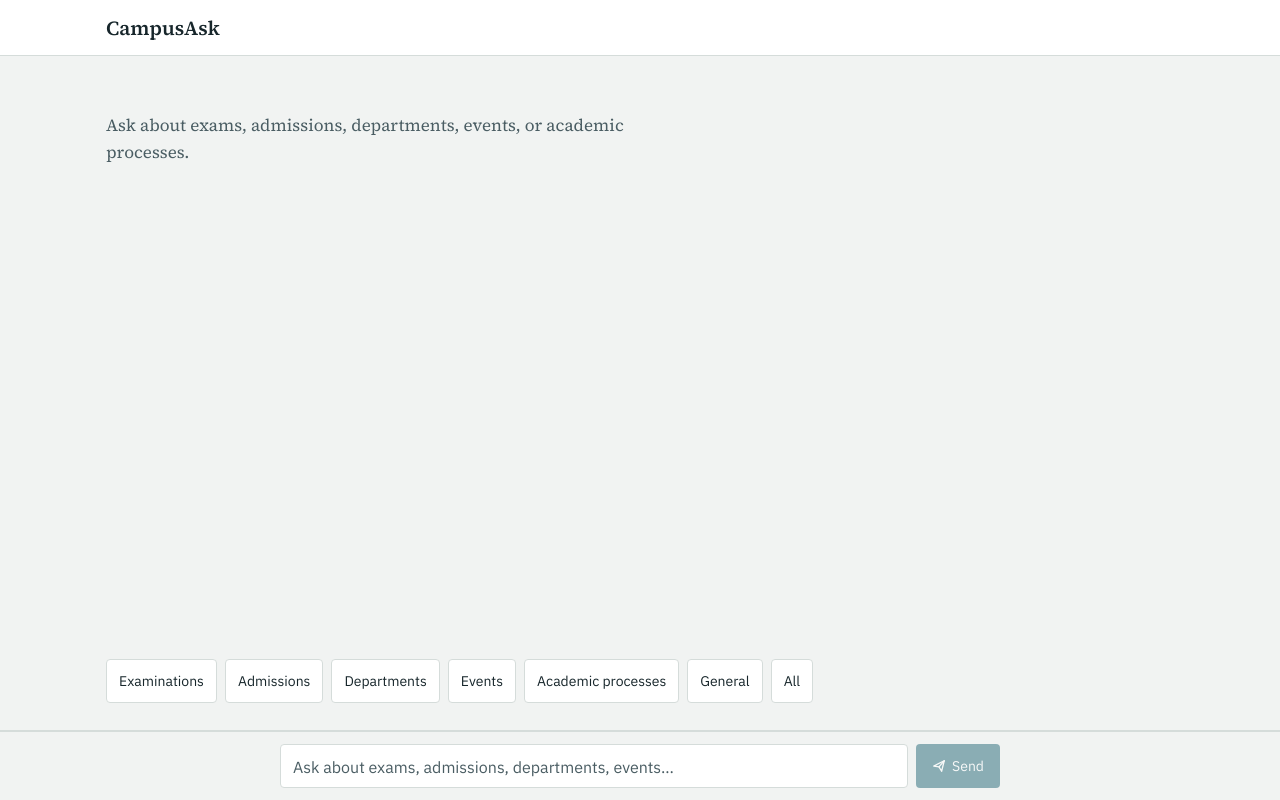
Test: Chat › opens one slip at a time
Check: the radio button labelled "Admissions" is shown, box [225,659,323,703]
Type "When are marks published?" into the text box. click: [594, 766]
box: [280,744,908,788]
Then press Enter
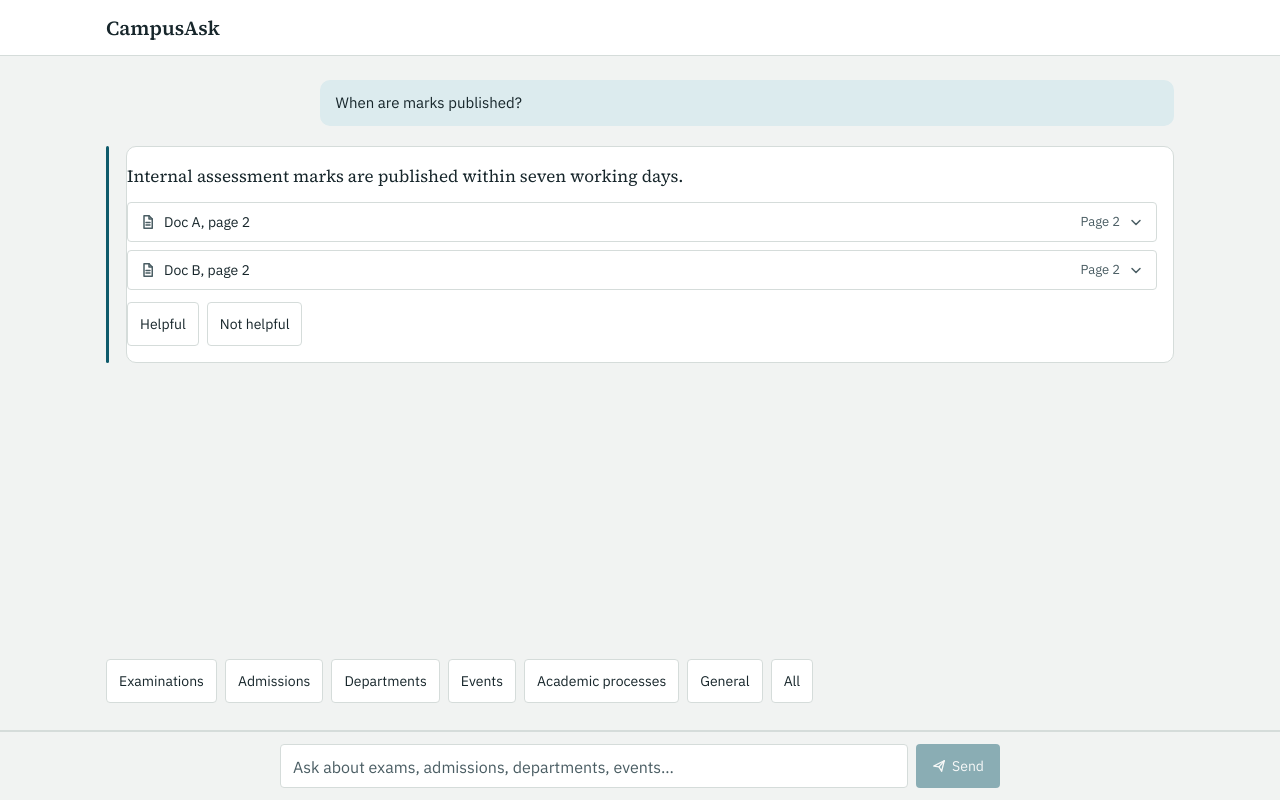
Click the button "Doc A, page 2 Page 2". click: [207, 222]
box: [127,202,1157,242]
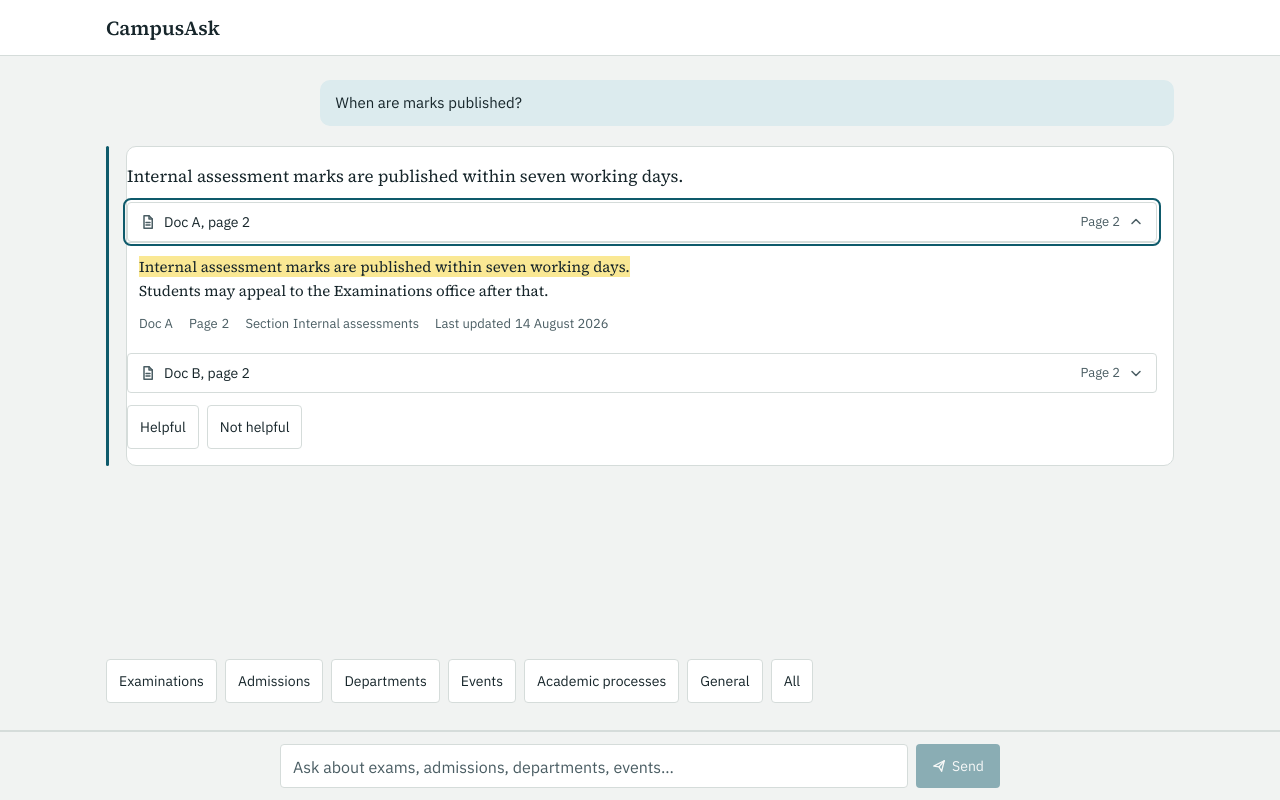
Check: the button "Doc A, page 2 Page 2" is expanded, box [127,202,1157,242]
Click the button "Doc B, page 2 Page 2". click: [207, 373]
box: [127,353,1157,393]
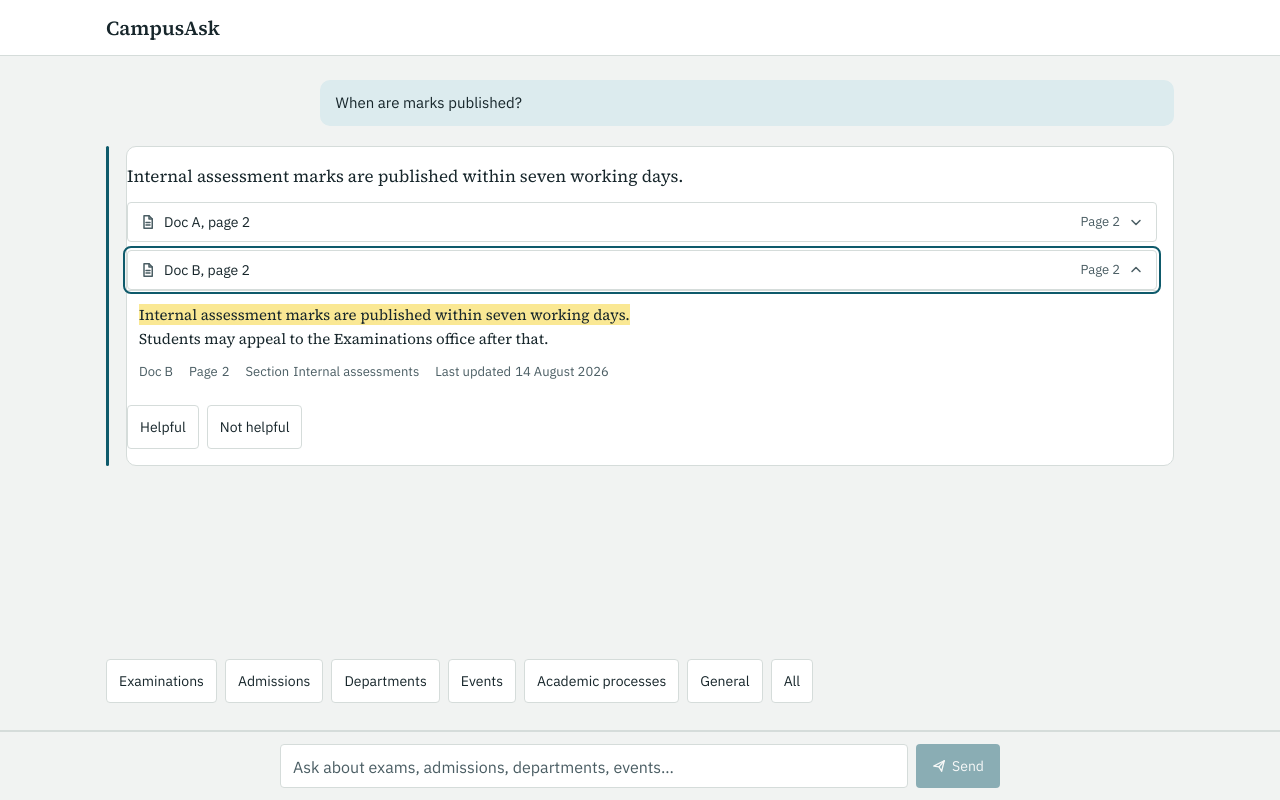
Check: the button "Doc B, page 2 Page 2" is expanded
Check: the button "Doc A, page 2 Page 2" is collapsed, box [127,202,1157,242]
Click the button "Doc B, page 2 Page 2". click: [207, 270]
box: [127,250,1157,290]
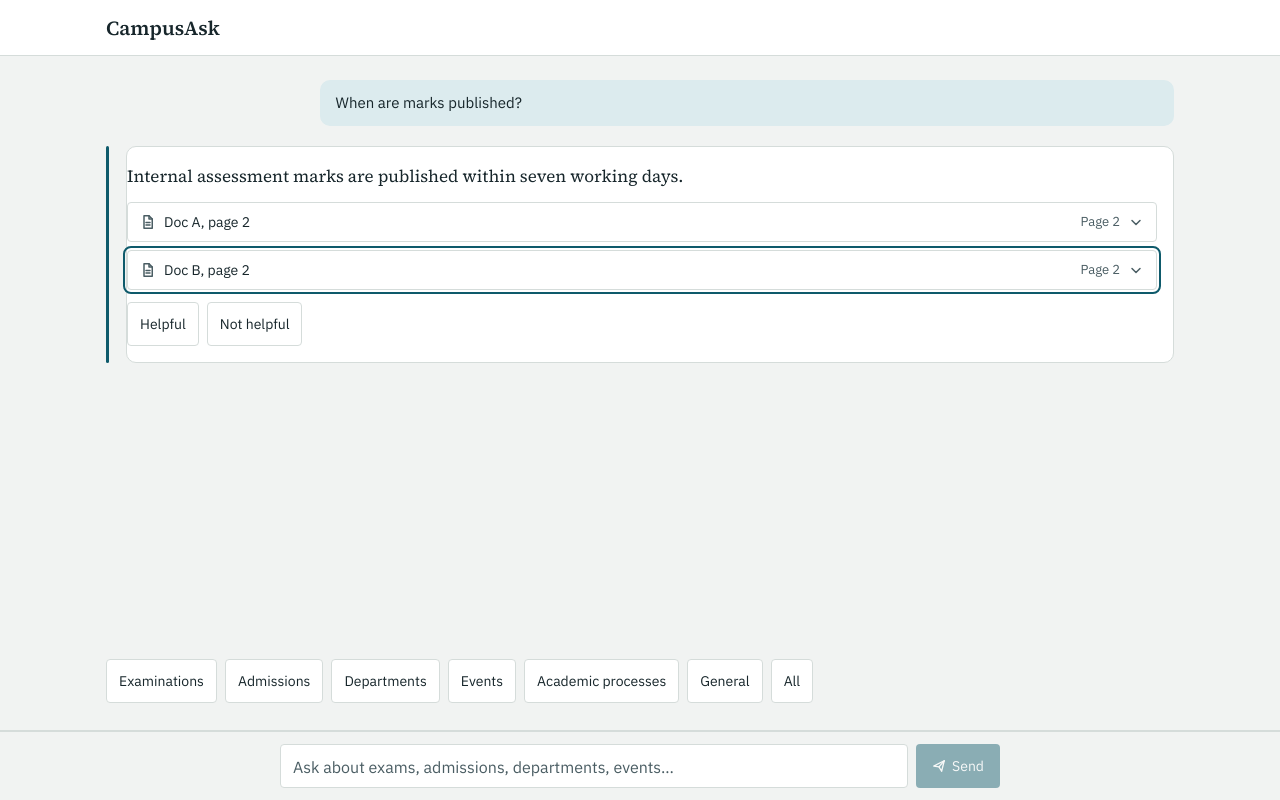
Check: the button "Doc B, page 2 Page 2" is collapsed, box [127,250,1157,290]
